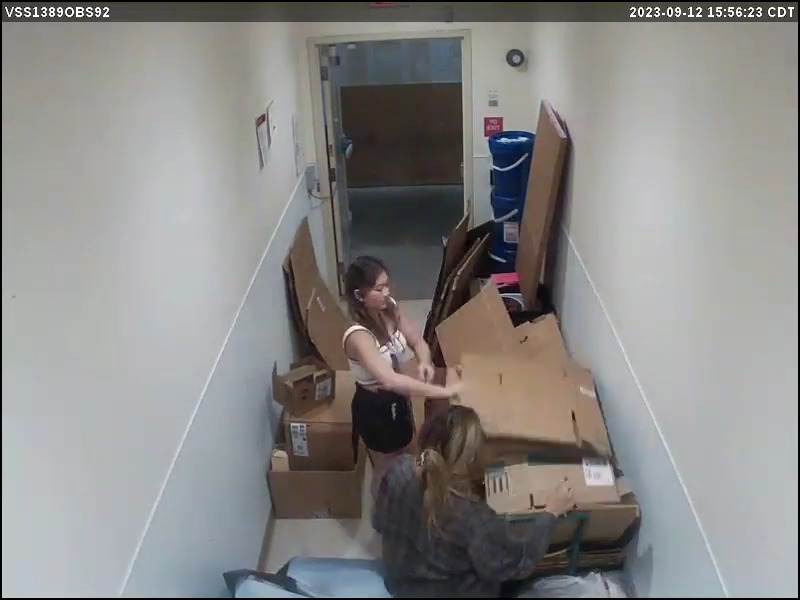No-gloves: (424, 371, 476, 415), (412, 356, 446, 386)
